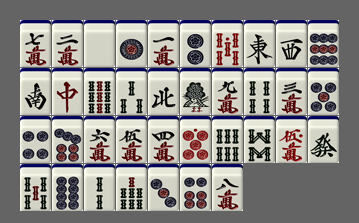0m: (276, 116, 307, 163)
0p: (180, 116, 211, 163)
0s: (212, 20, 243, 67)
1m: (148, 20, 179, 67)
1p: (116, 20, 147, 67)
1s: (180, 68, 211, 115)
1z: (244, 20, 275, 67)
2m: (52, 20, 83, 67)
2p: (180, 20, 211, 67)
2s: (84, 164, 115, 211)
2z: (20, 68, 51, 115)
3m: (276, 68, 307, 115)
3p: (148, 164, 179, 211)
3s: (116, 68, 147, 115)
3z: (276, 20, 307, 67)
4m: (148, 116, 179, 163)
4p: (20, 116, 51, 163)
4s: (244, 68, 275, 115)
4z: (148, 68, 179, 115)
5m: (116, 116, 147, 163)
5p: (308, 68, 339, 115)
5s: (20, 164, 51, 211)
5z: (84, 20, 115, 67)
6m: (84, 116, 115, 163)
6p: (180, 164, 211, 211)
6s: (212, 116, 243, 163)
6z: (308, 116, 339, 163)
7m: (20, 20, 51, 67)
7p: (52, 116, 83, 163)
7s: (116, 164, 147, 211)
7z: (52, 68, 83, 115)
8m: (212, 164, 243, 211)
8p: (52, 164, 83, 211)
8s: (244, 116, 275, 163)
9m: (212, 68, 243, 115)
9p: (308, 20, 339, 67)
9s: (84, 68, 115, 115)
